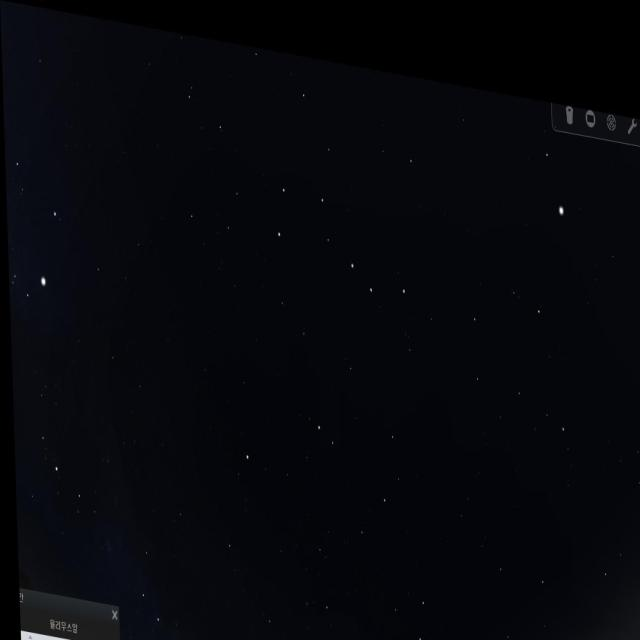cassiopeia: (128, 512, 194, 640)
ursa_major: (267, 145, 410, 293)
